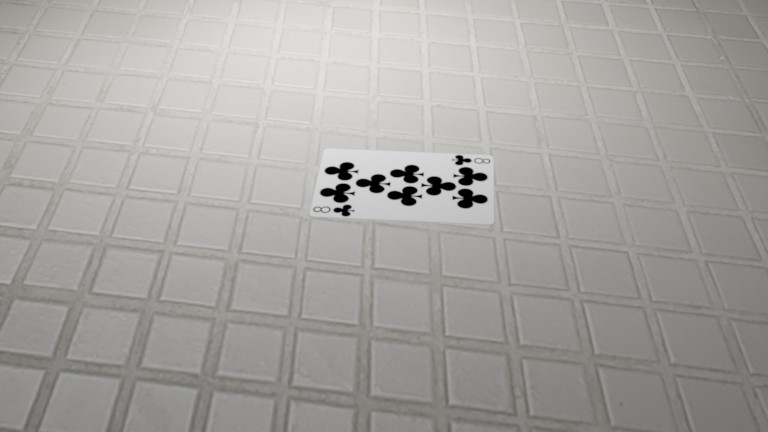8_of_clubs: (125, 81, 143, 87), (180, 62, 196, 67)
